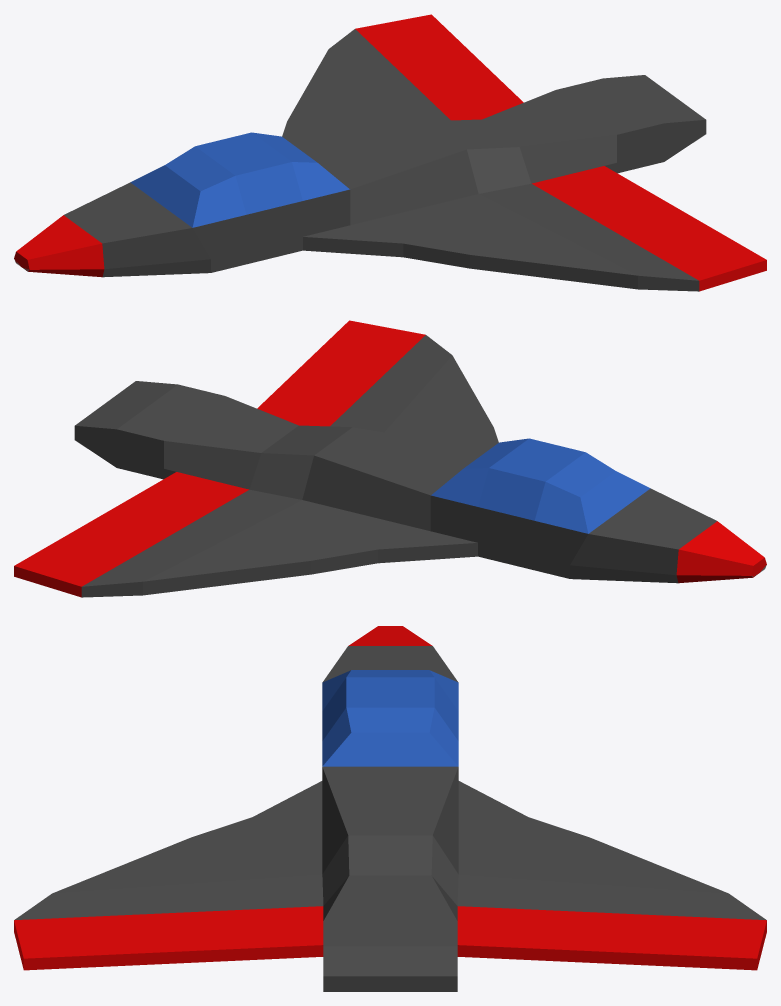
The model's file is jet.fbx.
The picture shows the model from 3 angles, top to bottom: view 1: azimuth 30°, elevation 25°; view 2: azimuth 150°, elevation 25°; view 3: azimuth 270°, elevation 25°; orthographic projection. The views are drawn at different scales.
Parts seen in each view (by area): view 1: Cube.001; view 2: Cube.001; view 3: Cube.001.
Part boxes in pixels (box(x1,y1,x2,y2)): Cube.001: box(14, 14, 766, 291); Cube.001: box(14, 320, 766, 597); Cube.001: box(14, 626, 766, 991).
Size of the model in its own units: 751 by 88.52 by 685.
